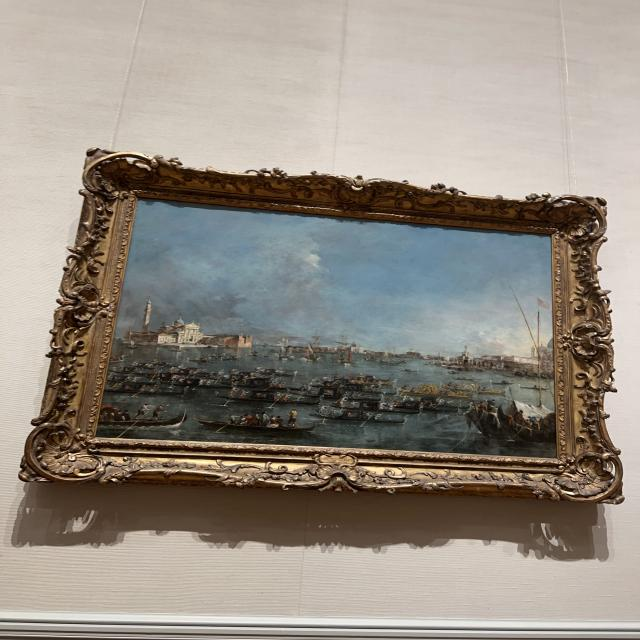ships: (102, 208, 550, 451)
